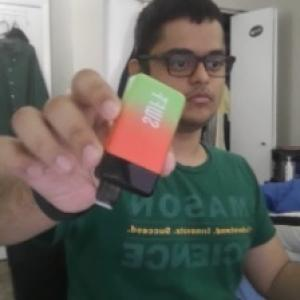Swift-E-Ciggirate: (95, 71, 186, 213)
